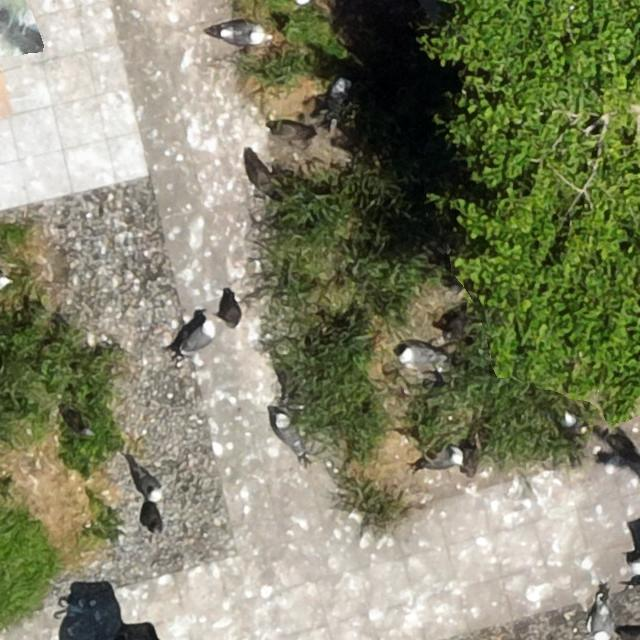umineko: (418, 449, 461, 473), (596, 592, 613, 640), (276, 418, 300, 452), (219, 26, 263, 44), (186, 324, 213, 352), (399, 346, 435, 364), (136, 470, 159, 498), (564, 412, 581, 431)
